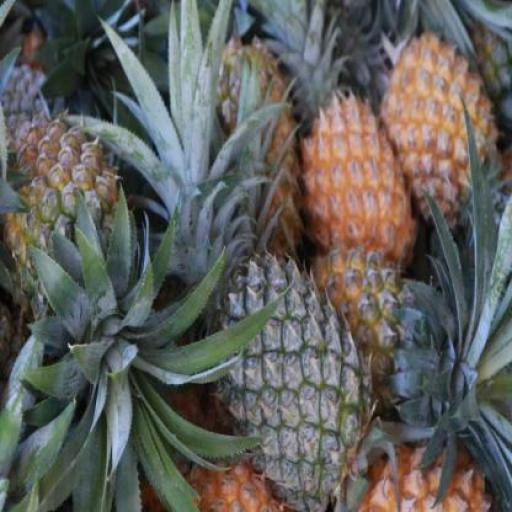------------------------------: (1, 119, 131, 330)
Pineapple - v8 v1: (382, 32, 496, 239), (299, 92, 414, 274)
